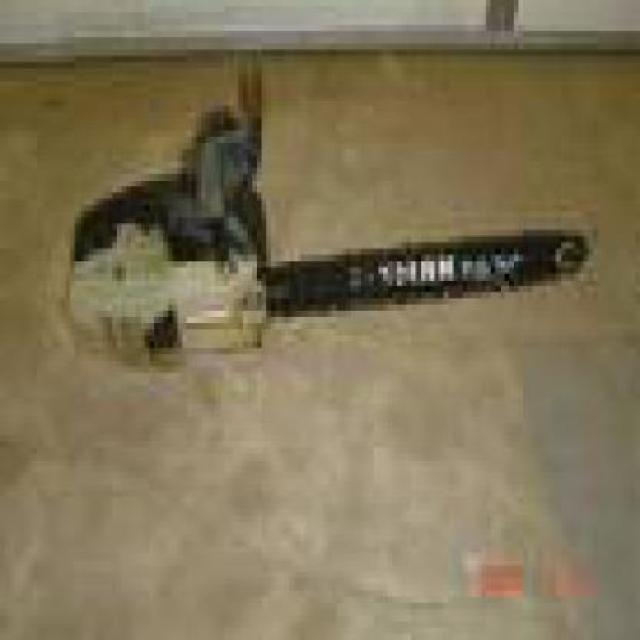Chainsaw: (64, 97, 594, 361)
